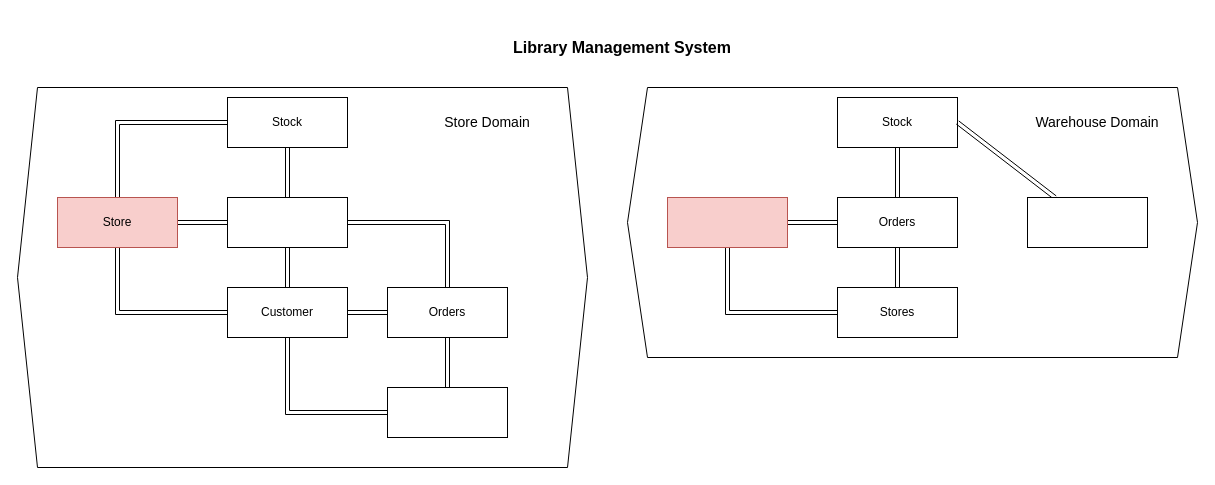
The diagram is 1215 pixels wide and 485 high, and some of its shapes have lost their labels. The shapes that lost their labels are listed below. From the top down, each one's centre as x and y in pixels, then its label:
At point 287,222: "Book".
At point 727,222: "Warehouse".
At point 1087,222: "Producers".
At point 447,412: "Fines".
